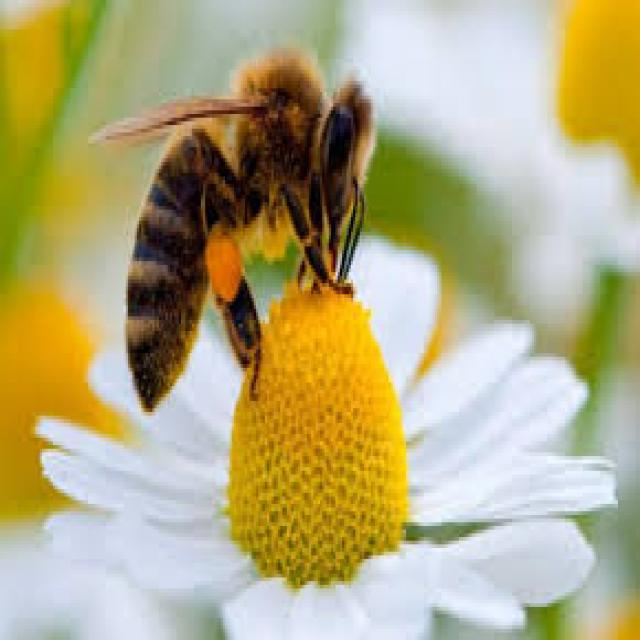Bees: (85, 48, 377, 412)
